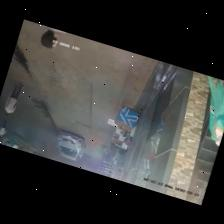person: (4, 82, 21, 114), (40, 26, 64, 47), (0, 119, 6, 136)
